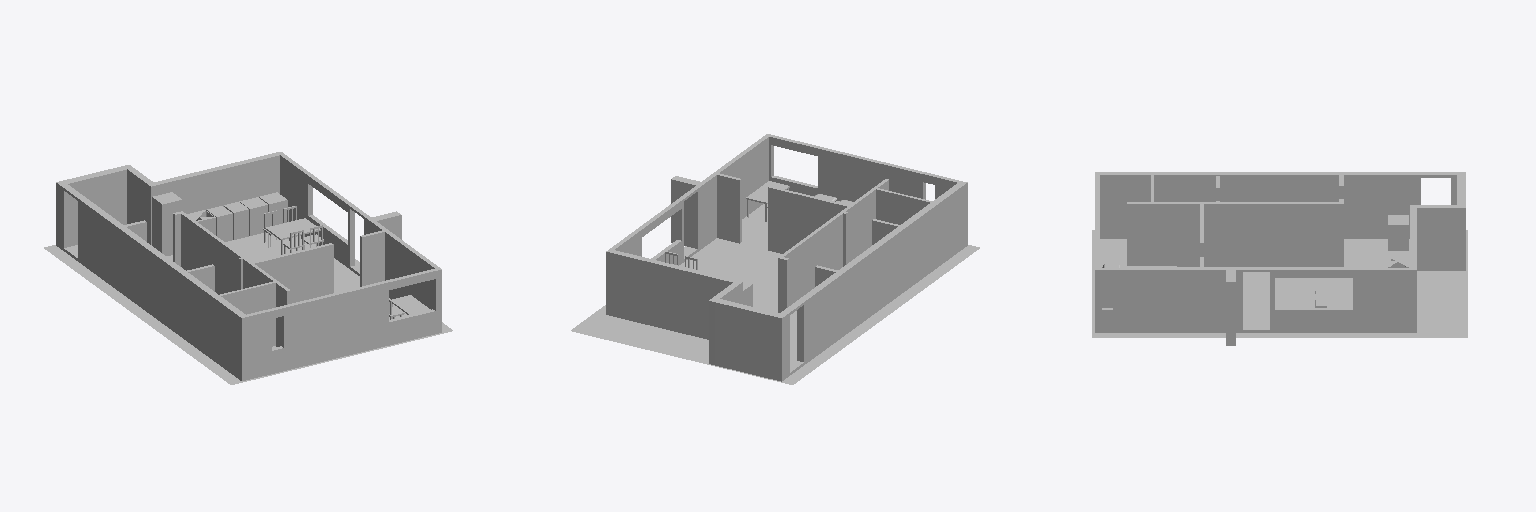
File: OttoBrandt03.obj
3 renders of one model, left to right at view 1: azimuth 30°, elevation 25°; view 2: azimuth 150°, elevation 25°; view 3: azimuth 270°, elevation 25°, orthographic.
Visible parts, largest first — view 1: wall_outer_Cube, wall_internal_Cube.013, Plane, kitchen_table_Cube.004, kitchen01_fridge_Cube.011, kitchen06_Cube.006, kitchen05_Cube.007, bedroom_desk_Cube.003, kitchen04_Cube.008, kitchen07_Cube.005; view 2: wall_outer_Cube, wall_internal_Cube.013, Plane; view 3: wall_outer_Cube, wall_internal_Cube.013, Plane, kitchen01_fridge_Cube.011, kitchen_table_Cube.004.
Boxes of the visible parts, <box> form: wall_outer_Cube: <box>56,152,441,380</box>; wall_internal_Cube.013: <box>124,211,384,346</box>; Plane: <box>44,233,452,384</box>; kitchen_table_Cube.004: <box>263,206,323,254</box>; kitchen01_fridge_Cube.011: <box>152,192,182,255</box>; kitchen06_Cube.006: <box>239,197,267,235</box>; kitchen05_Cube.007: <box>224,202,248,239</box>; bedroom_desk_Cube.003: <box>389,295,430,319</box>; kitchen04_Cube.008: <box>206,206,232,241</box>; kitchen07_Cube.005: <box>259,192,287,226</box>; wall_outer_Cube: <box>606,134,967,381</box>; wall_internal_Cube.013: <box>716,173,932,313</box>; Plane: <box>571,204,979,384</box>; wall_outer_Cube: <box>1095,172,1465,345</box>; wall_internal_Cube.013: <box>1127,175,1343,267</box>; Plane: <box>1092,230,1467,337</box>; kitchen01_fridge_Cube.011: <box>1388,215,1408,250</box>; kitchen_table_Cube.004: <box>1315,284,1352,307</box>.
Bounding box in the file's own units: 7.87 × 2 × 10.78.